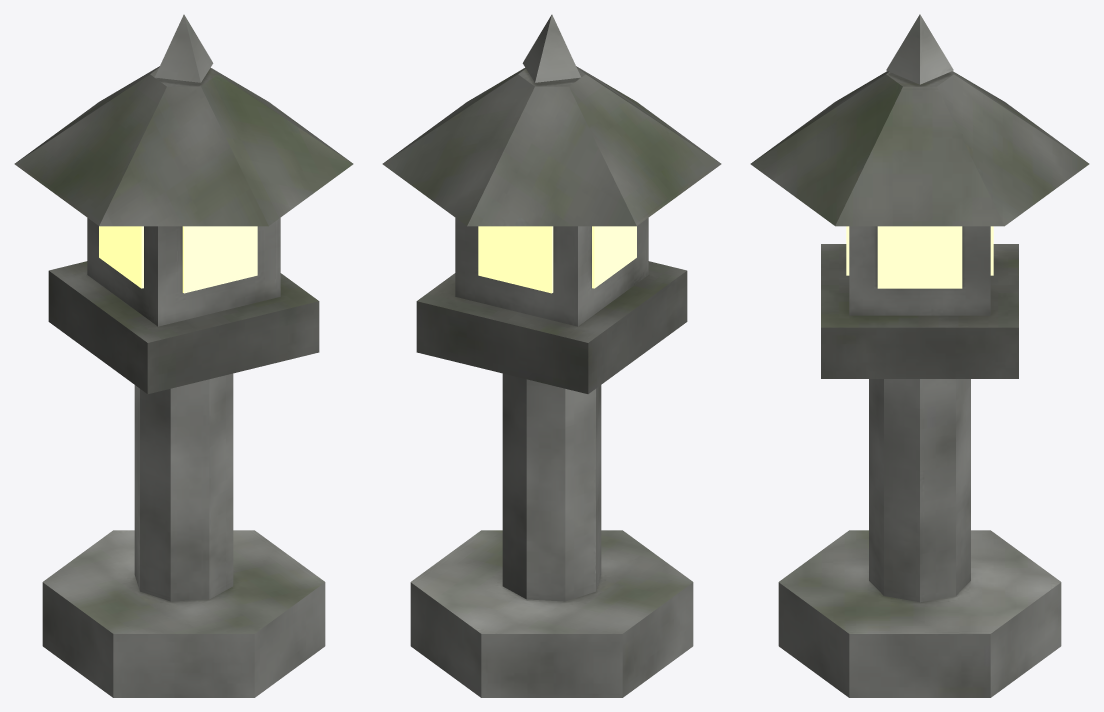
File: stenlykta_tex.glb
3 views of the same model, side by side, from view 1: azimuth 30°, elevation 25°; view 2: azimuth 150°, elevation 25°; view 3: azimuth 270°, elevation 25° (orthographic).
Parts seen in each view (by area): view 1: stenlykta; view 2: stenlykta; view 3: stenlykta.
Boxes of the visible parts, x1=… form: stenlykta: x1=14, y1=14, x2=353, y2=697; stenlykta: x1=382, y1=14, x2=721, y2=697; stenlykta: x1=750, y1=14, x2=1089, y2=697.
Bounding box in the file's own units: 1.04 × 2.46 × 1.2.
3 materials, 2 textured.
